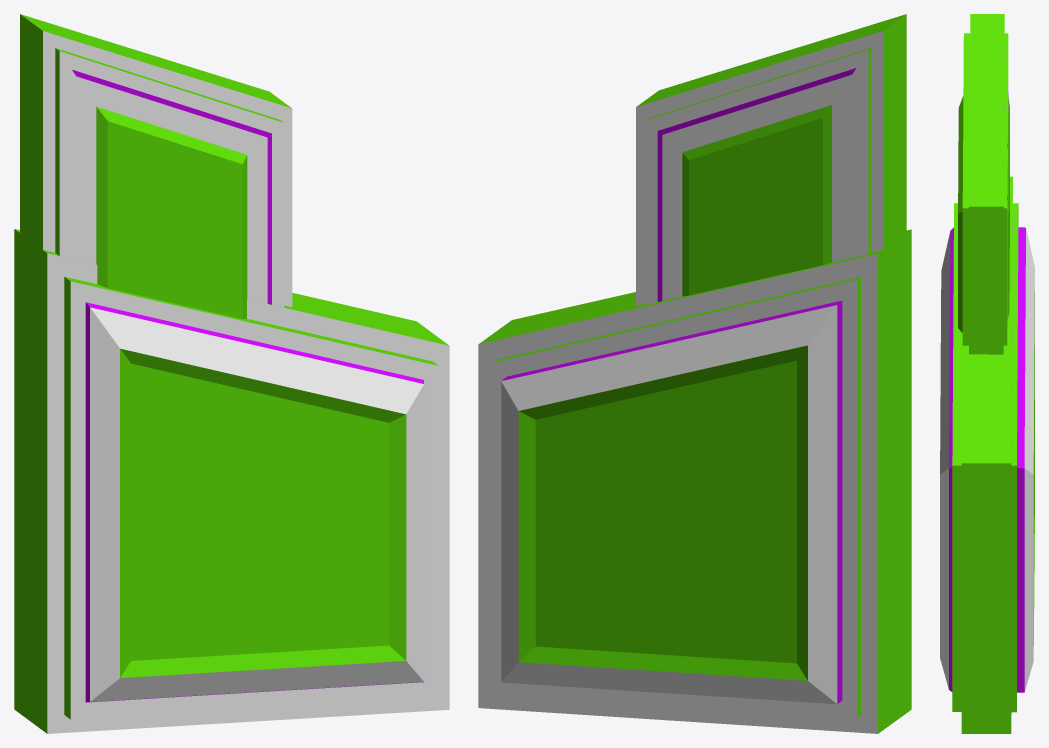
Rendered from altk_lv8.fbx.
3 views of the same model, side by side, from view 1: azimuth 30°, elevation 25°; view 2: azimuth 150°, elevation 25°; view 3: azimuth 270°, elevation 25° (orthographic). The views are drawn at different scales.
Parts seen in each view (by area): view 1: altk_lv8; view 2: altk_lv8; view 3: altk_lv8.
Part boxes in pixels (x1,y1,x2,y2): altk_lv8: (14, 14, 449, 733); altk_lv8: (478, 14, 911, 733); altk_lv8: (940, 14, 1034, 733).
Bounding box in the file's own units: 103 × 189 × 28.33.
